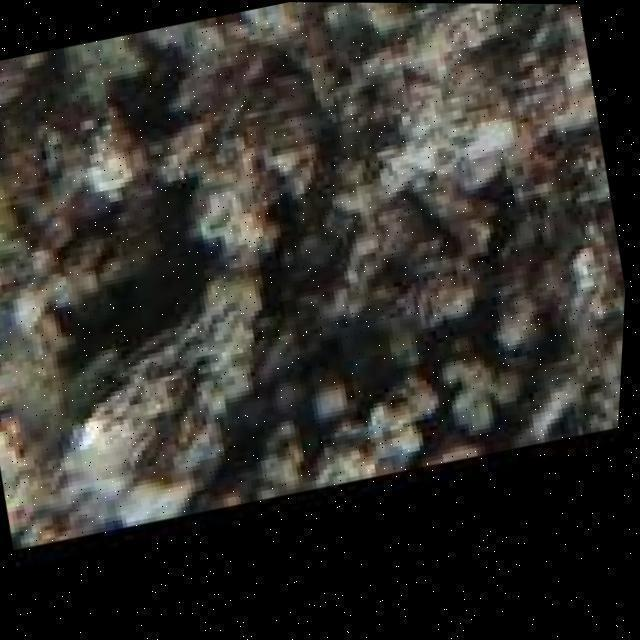Dead Coral: (273, 215, 640, 458)
